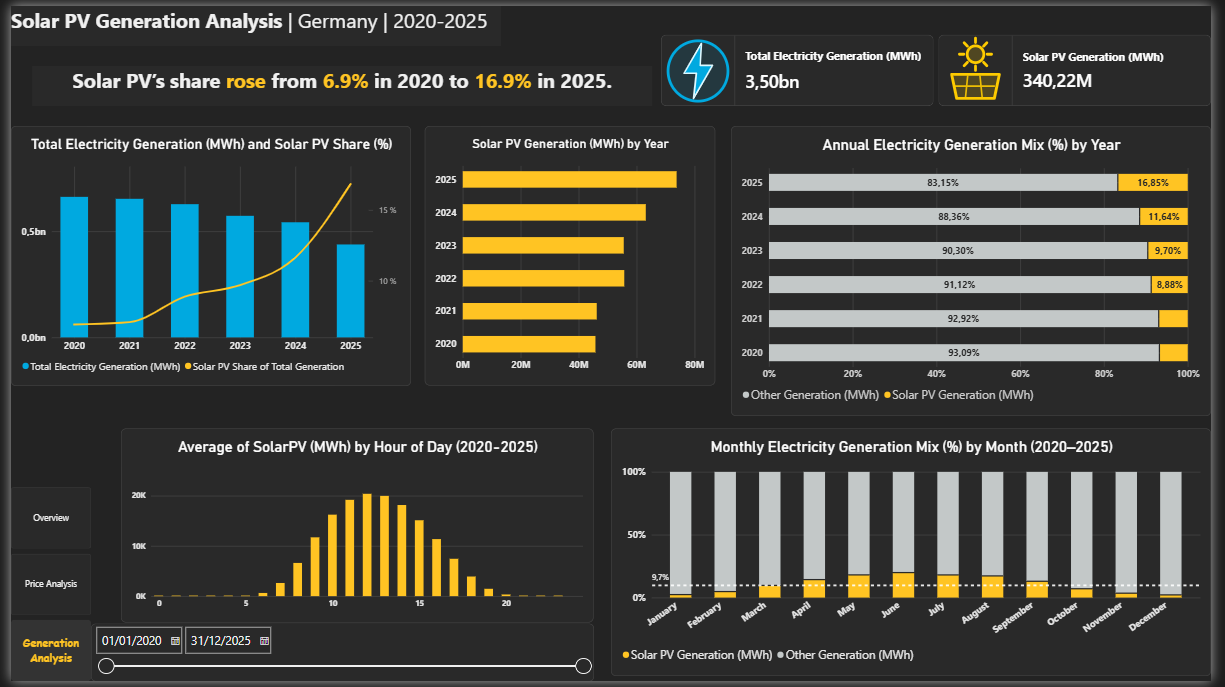

What the dashboard file says about the page in this screenshot:
{"tool":"powerbi","page":{"name":"Generation Analysis","canvas":[1920,1080],"ordinal":2},"visuals":[{"type":"slicer","fields":{"Values":["DimHour.DateTime"]},"box":[127.5,987.5,805,92.5],"z":0},{"type":"columnChart","title":"Average of SolarPV (MWh) by Hour of Day (2020-2025)","fields":{"Category":["DimHour.Hour of Day"],"Y":["Avg(Generation_2020_2025.SolarPV_MWh)"]},"box":[176,676,756,310],"z":1000},{"type":"hundredPercentStackedColumnChart","title":"Monthly Electricity Generation Mix (%) by Month (2020–2025)","fields":{"Category":["DimHour.DateTime.Variation.Date Hierarchy.Month"],"Y":["Generation_2020_2025.Solar PV Generation (MWh)_2020-2025","Generation_2020_2025.Other Generation (MWh)"]},"box":[960,676,960,396],"z":2000},{"type":"cardVisual","title":"Total Electricity Generation (MWh)_ 2020-2025","fields":{"Data":["Generation_2025.Total Generation (MWh)","Generation_2020_2025.Solar PV Generation (MWh)_2020-2025"]},"box":[1040,46,880,114],"z":3000},{"type":"textbox","box":[0,0,784,64],"z":4000},{"type":"barChart","title":"Solar PV Generation (MWh) by Year","fields":{"Category":["DimHour.DateTime.Variation.Date Hierarchy.Year"],"Y":["Generation_2020_2025.Solar PV Generation (MWh)"]},"box":[662.5,192.5,465,415],"z":5000},{"type":"hundredPercentStackedBarChart","title":"Annual Electricity Generation Mix (%) by Year","fields":{"Category":["DimHour.DateTime.Variation.Date Hierarchy.Year"],"Y":["Generation_2020_2025.Other Generation (MWh)","Generation_2020_2025.Solar PV Generation (MWh)"]},"box":[1152,192,768,464],"z":6000},{"type":"lineClusteredColumnComboChart","title":"Total Electricity Generation (MWh) and Solar PV Share (%)","fields":{"Category":["DimHour.DateTime.Variation.Date Hierarchy.Year"],"Y":["Generation_2020_2025.Total Electricity Generation (MWh)_2020-2025"],"Y2":["Generation_2020_2025.Solar PV Share (%)"]},"box":[0,192,640,416],"z":7000},{"type":"textbox","box":[34,96,992,64],"z":8000},{"type":"pageNavigator","box":[0,770,128,310],"z":9000}]}

Visuals, with their boxes in screenshot pixels (x1, y1, x2, y2), scaled from the page's 1920x1080 canvas onto the 1225x687 screenshot:
slicer - DimHour.DateTime: pyautogui.locateOnScreen(81, 628, 595, 686)
"Average of SolarPV (MWh) by Hour of Day (2020-2025)" columnChart: pyautogui.locateOnScreen(112, 430, 595, 627)
"Monthly Electricity Generation Mix (%) by Month (2020–2025)" hundredPercentStackedColumnChart: pyautogui.locateOnScreen(612, 430, 1224, 682)
"Total Electricity Generation (MWh)_ 2020-2025" cardVisual: pyautogui.locateOnScreen(664, 29, 1224, 102)
textbox: pyautogui.locateOnScreen(0, 0, 500, 41)
"Solar PV Generation (MWh) by Year" barChart: pyautogui.locateOnScreen(423, 122, 719, 386)
"Annual Electricity Generation Mix (%) by Year" hundredPercentStackedBarChart: pyautogui.locateOnScreen(735, 122, 1224, 417)
"Total Electricity Generation (MWh) and Solar PV Share (%)" lineClusteredColumnComboChart: pyautogui.locateOnScreen(0, 122, 408, 387)
textbox: pyautogui.locateOnScreen(22, 61, 655, 102)
pageNavigator: pyautogui.locateOnScreen(0, 490, 82, 686)
